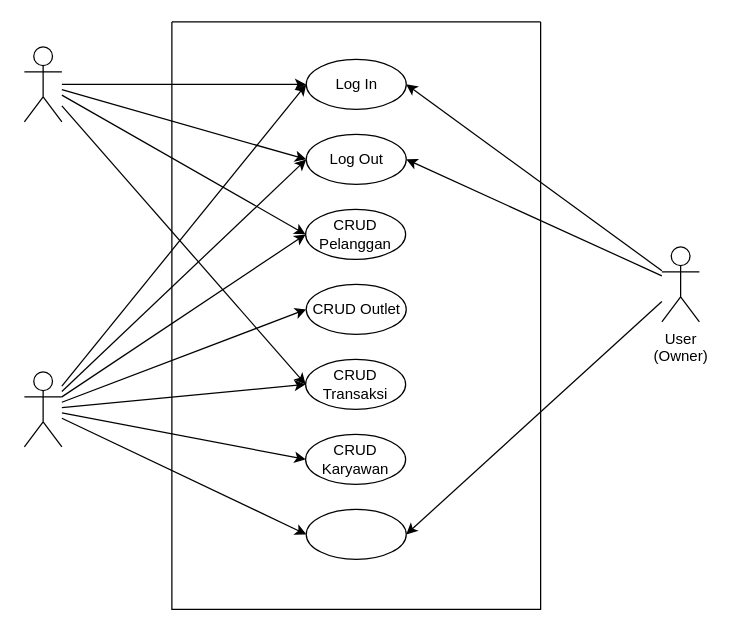
Some shapes in this 729 by 631 pixel diagram are drawn without their labels. The box of each missing label's shape, as (x1, y1, x2, y2) in pixels:
Admin: (23, 371, 62, 447)
Generate Laporan: (305, 508, 406, 559)
User (Kasir): (23, 46, 62, 122)
